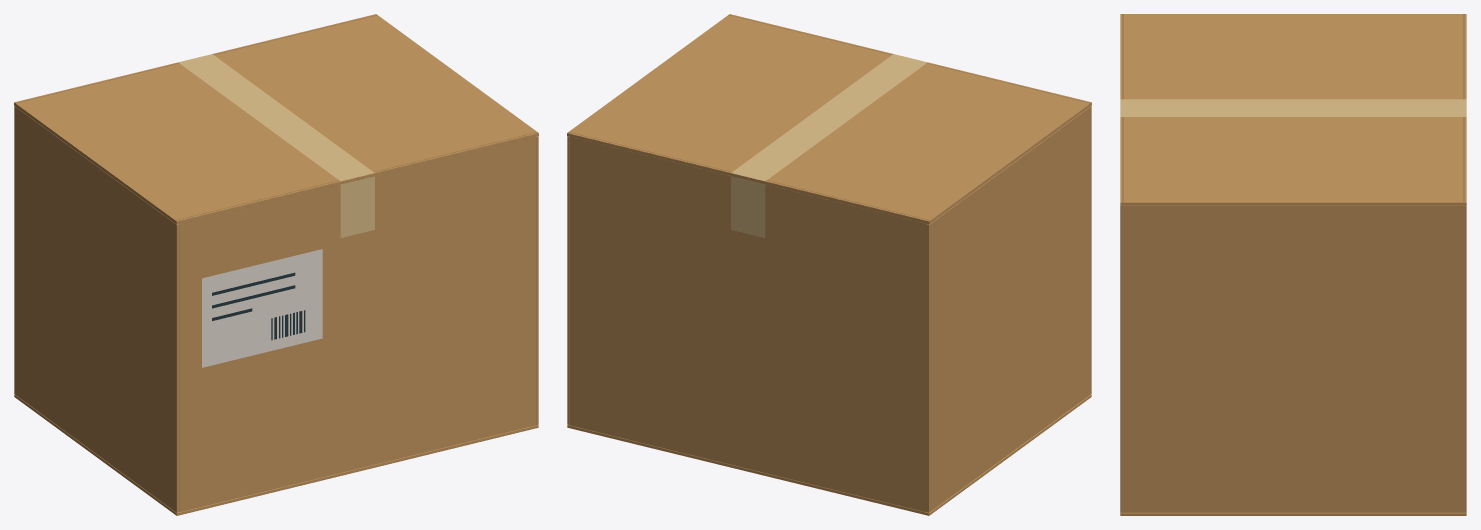
The model's file is sealed-parcel.glb.
The picture shows the model from 3 angles, left to right: view 1: azimuth 30°, elevation 25°; view 2: azimuth 150°, elevation 25°; view 3: azimuth 270°, elevation 25°; orthographic projection. The views are drawn at different scales.
Parts seen in each view (by area): view 1: sealed-parcel; view 2: sealed-parcel; view 3: sealed-parcel.
Boxes of the visible parts, x1,y1,x2,y2 form: sealed-parcel: (14,14,538,515); sealed-parcel: (567,14,1091,515); sealed-parcel: (1120,14,1466,515).
Bounding box in the file's own units: 0.36 × 0.28 × 0.28.
